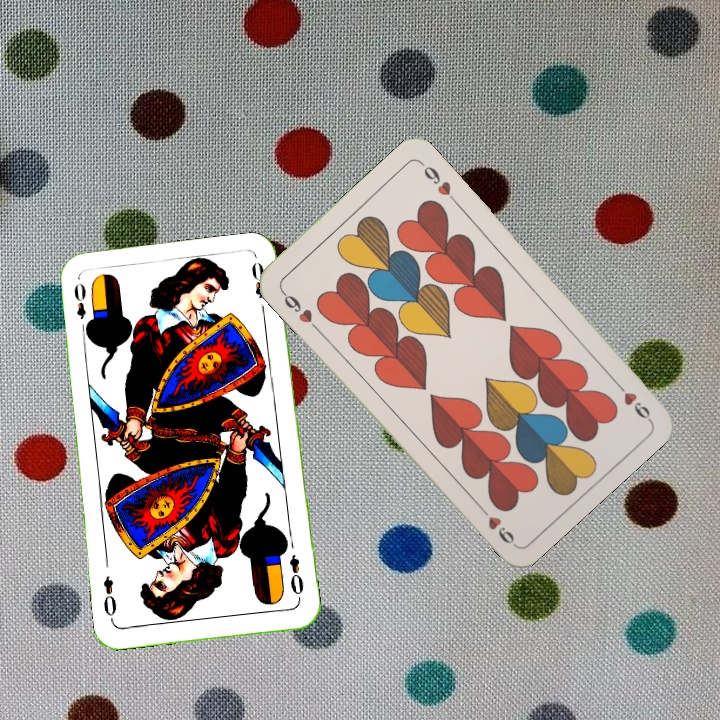EO: (69, 278, 94, 336), (285, 550, 306, 603)
H9: (609, 375, 653, 423), (276, 286, 315, 326)
